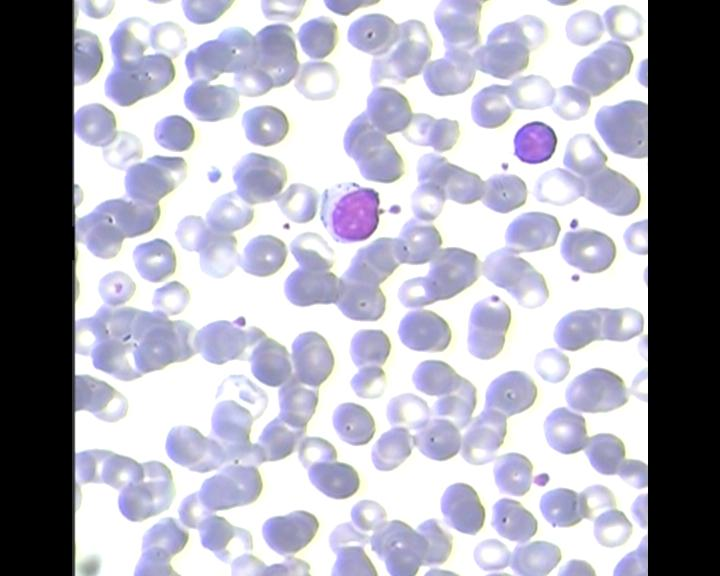lymp: (319, 180, 387, 245), (511, 120, 560, 165)
